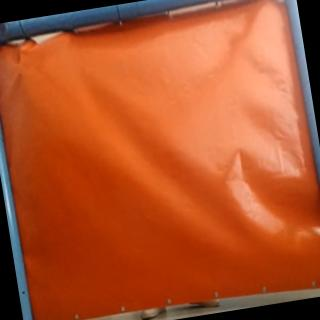Hit-hRxx: (8, 57, 30, 79)
